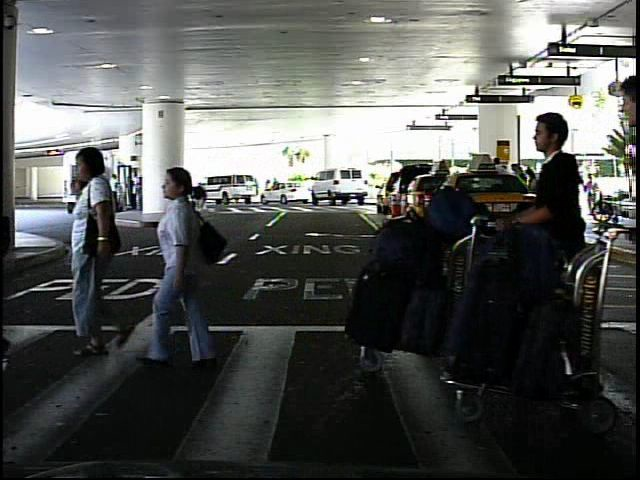person: (496, 99, 595, 394), (71, 137, 148, 358), (141, 158, 215, 382), (584, 171, 604, 217), (104, 172, 122, 222), (262, 178, 273, 204)
